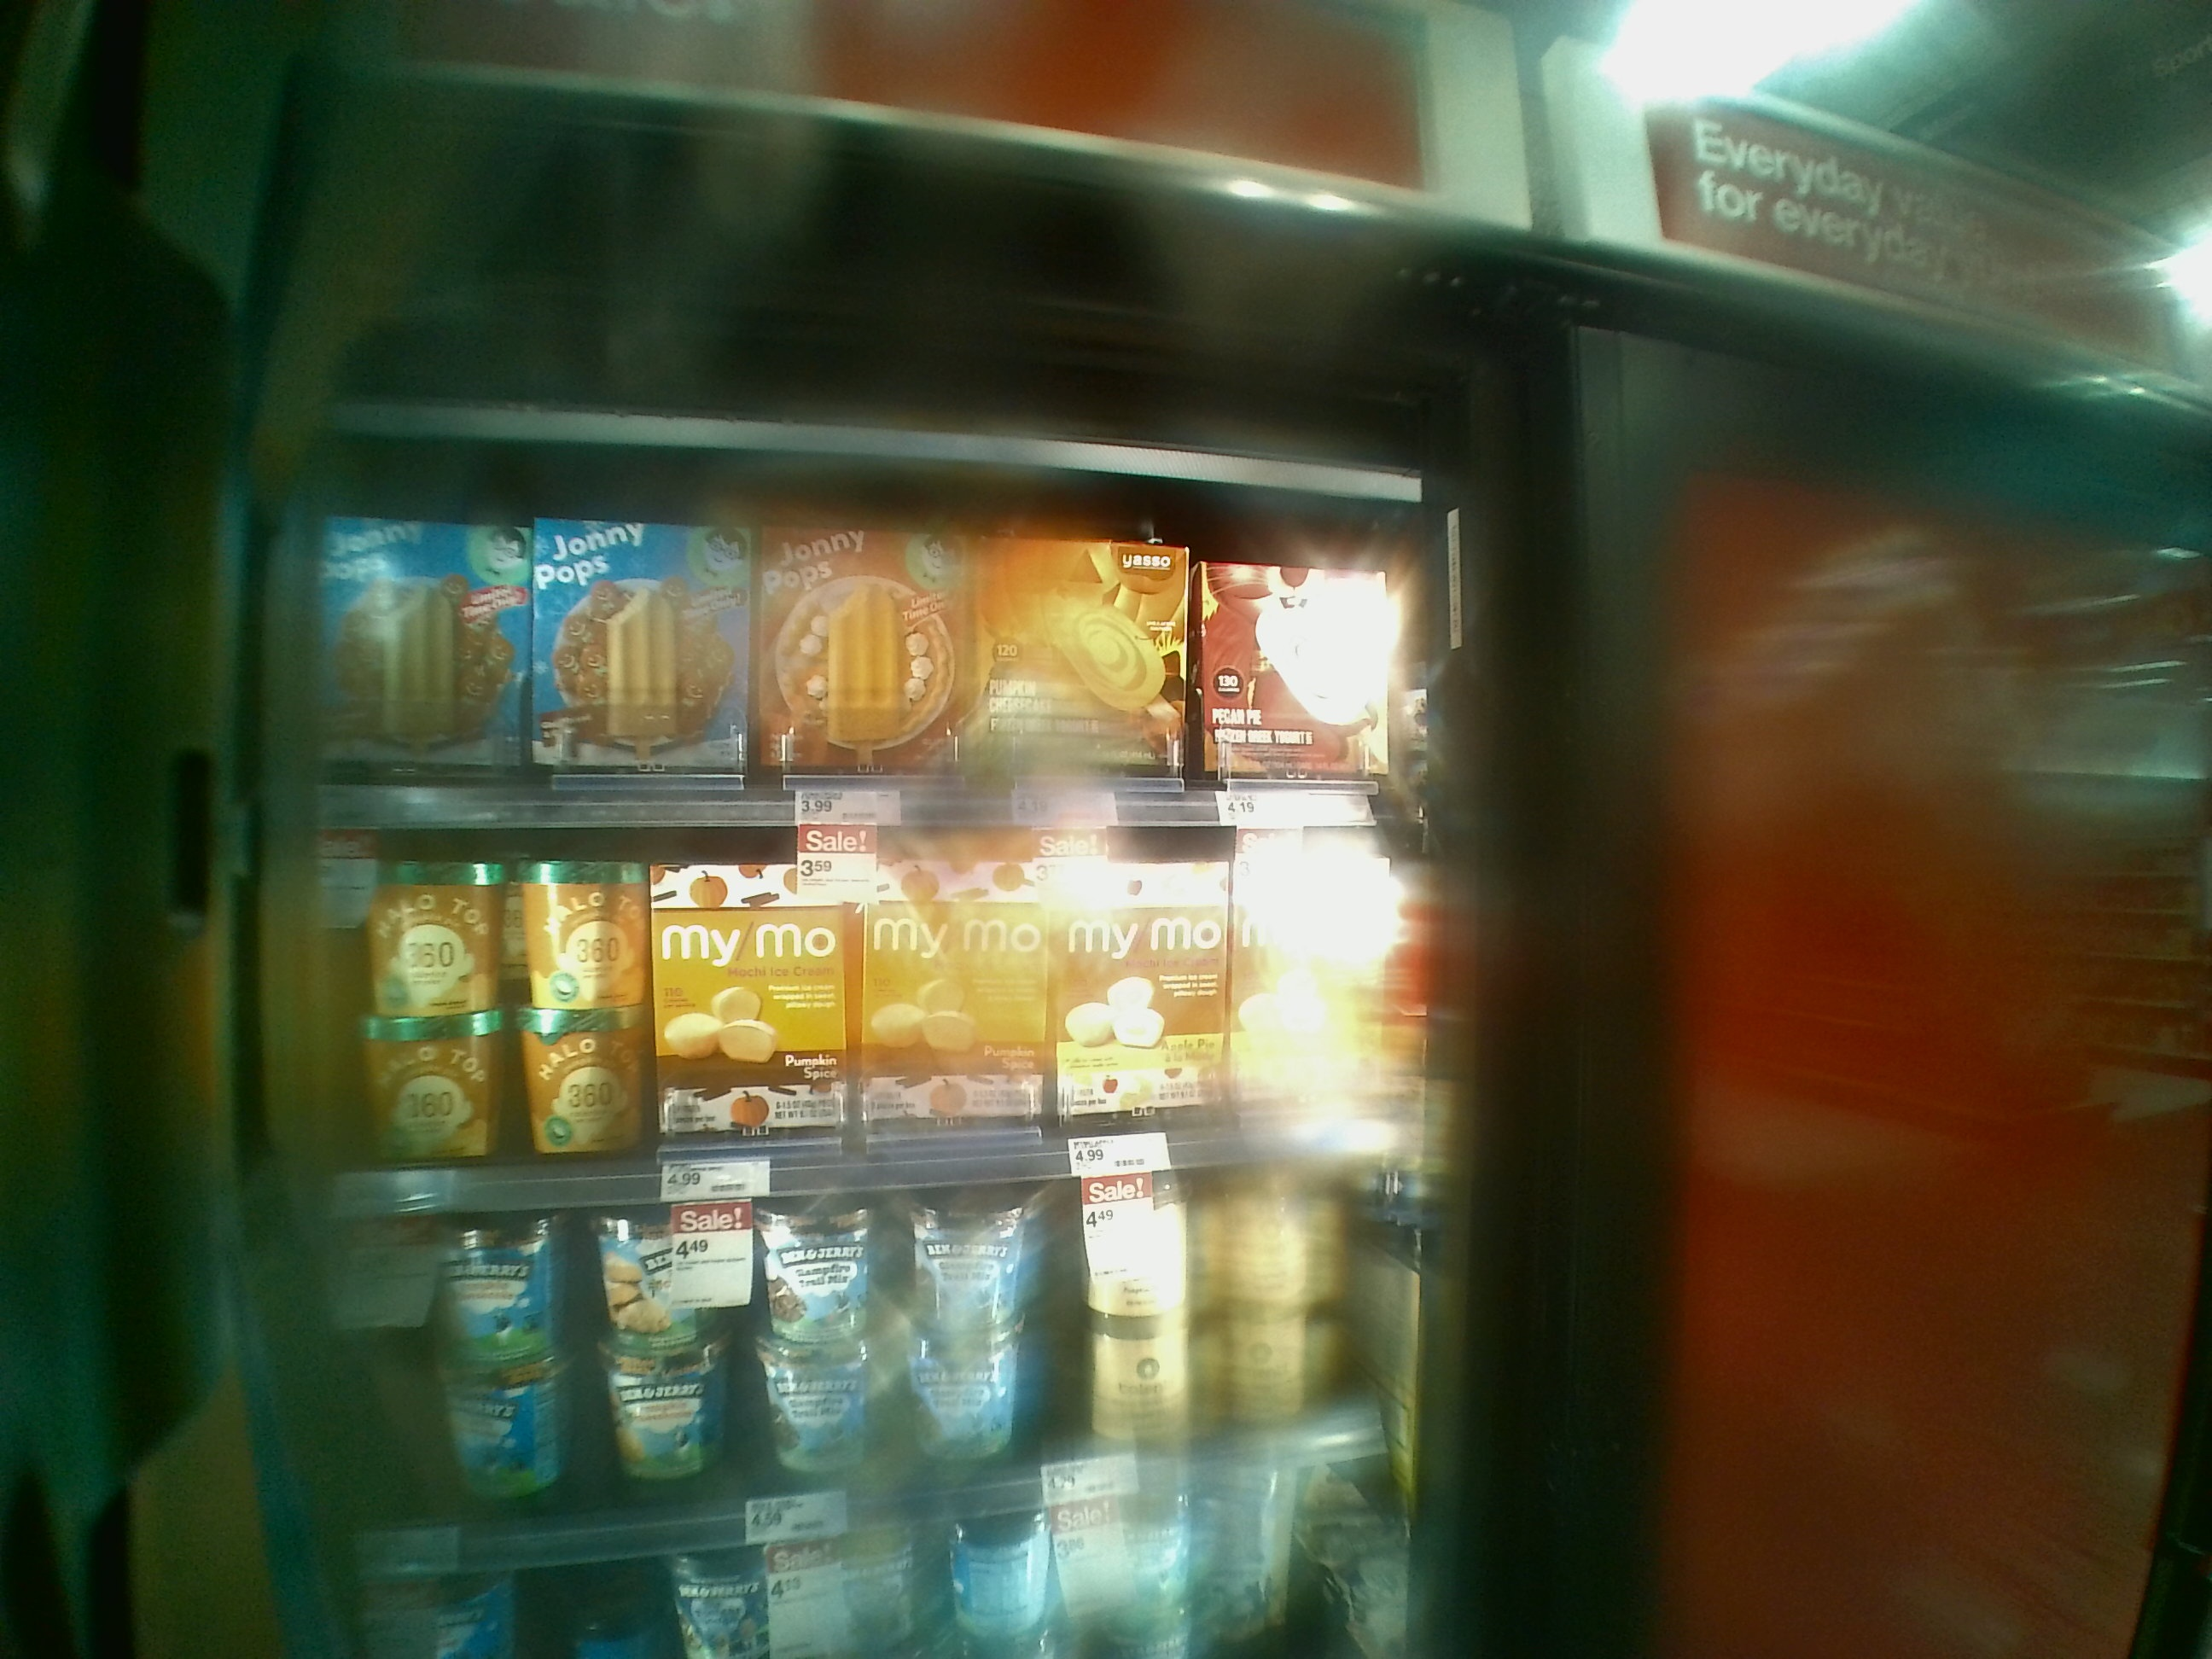shelf: (254, 1171, 1449, 1535), (273, 434, 1446, 803), (268, 803, 1418, 1161)
